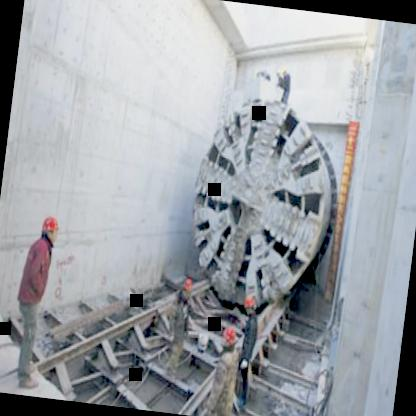helmet: (36, 206, 62, 250), (238, 290, 258, 316), (219, 324, 238, 348), (180, 276, 194, 294)
